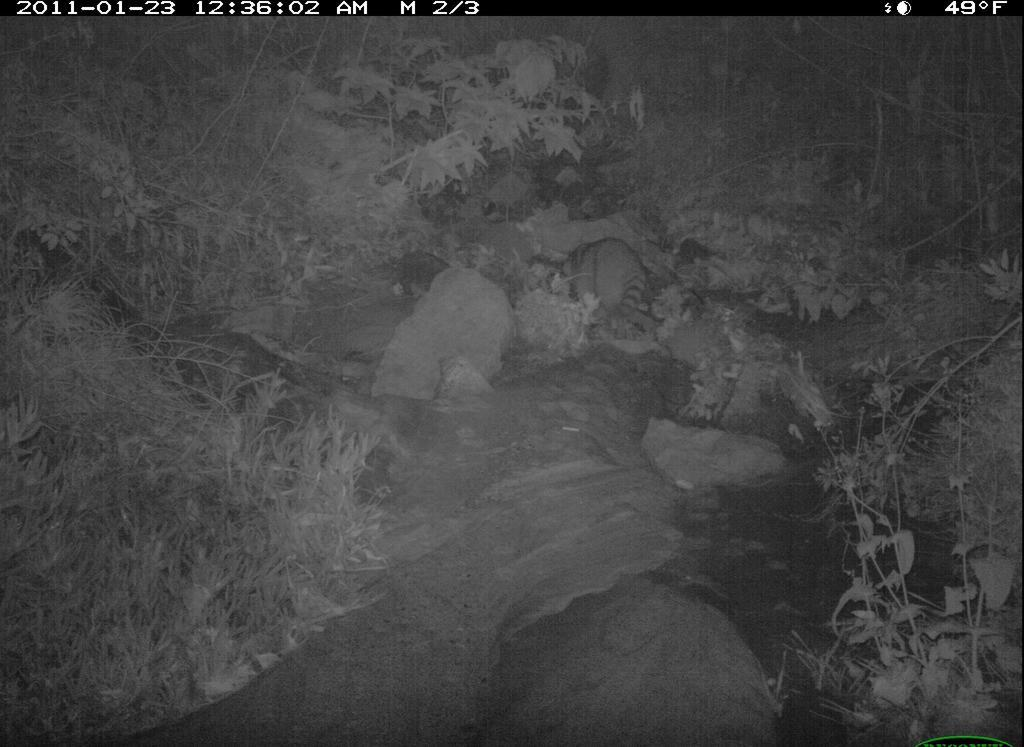raccoon: (563, 236, 662, 347)
